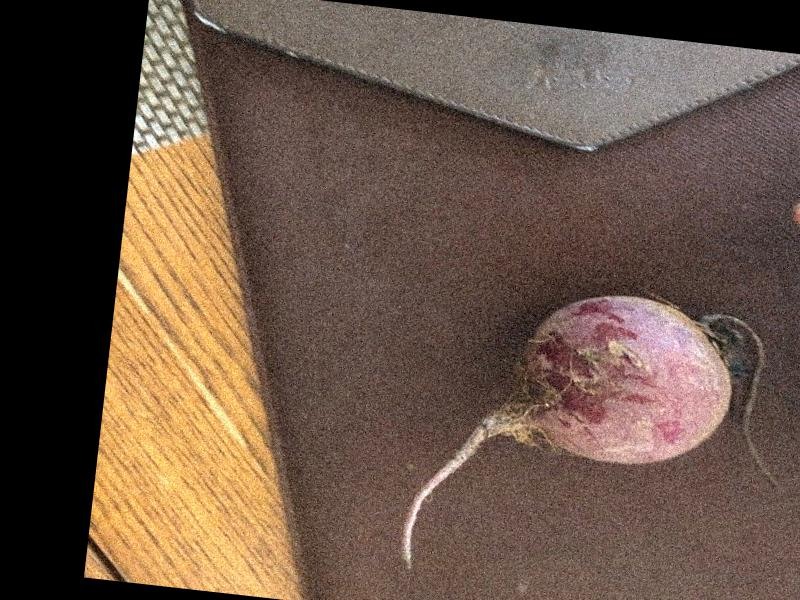Beet: (398, 274, 797, 600)
